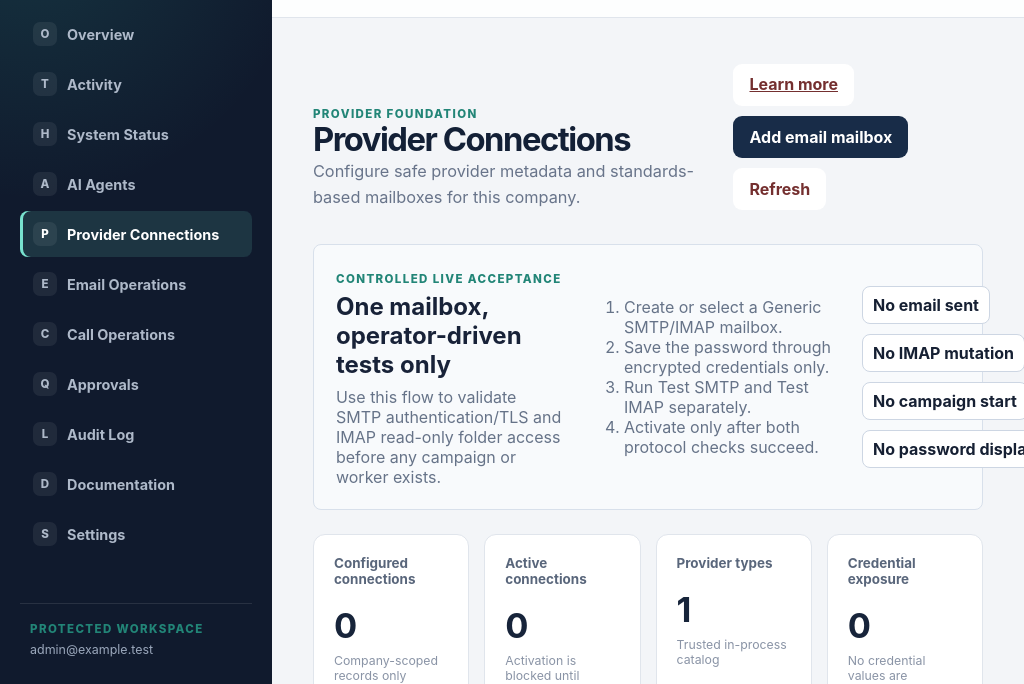
Test: validates mailbox form ports before saving
Click the button "Add email mailbox".
click(821, 137)  # box [734,116,908,158]
(page scrolled)
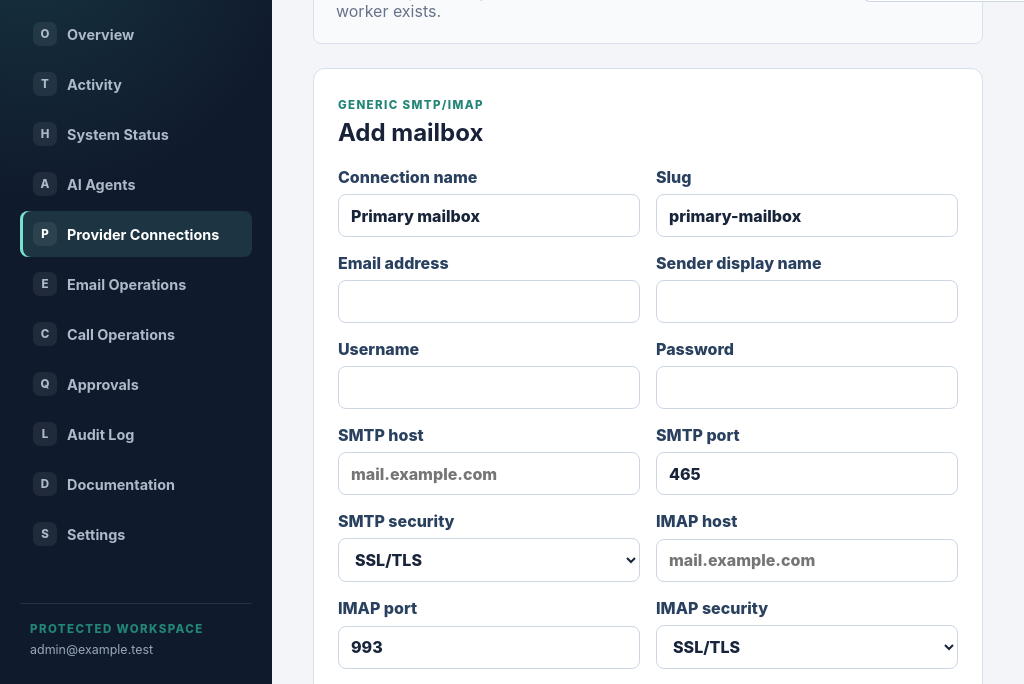
Type "mailbox@example.test" into the field labelled "Email address".
click(489, 302); type("mailbox@example.test")  # box [338,280,640,323]
Type "mailbox@example.test" into the field labelled "Username".
click(489, 388); type("mailbox@example.test")  # box [338,366,640,409]
Type "not-rendered-mailbox-password" into the password field labelled "Password".
click(807, 388); type("not-rendered-mailbox-password")  # box [656,366,958,409]
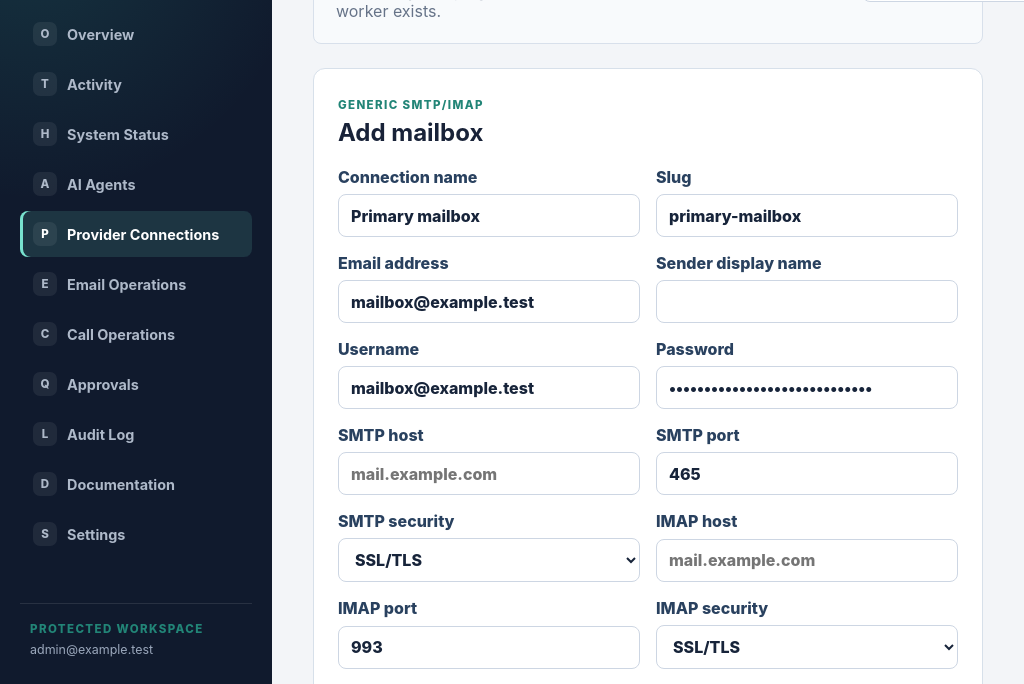
Type "mail.example.test" into the field labelled "SMTP host".
click(489, 474); type("mail.example.test")  # box [338,452,640,495]
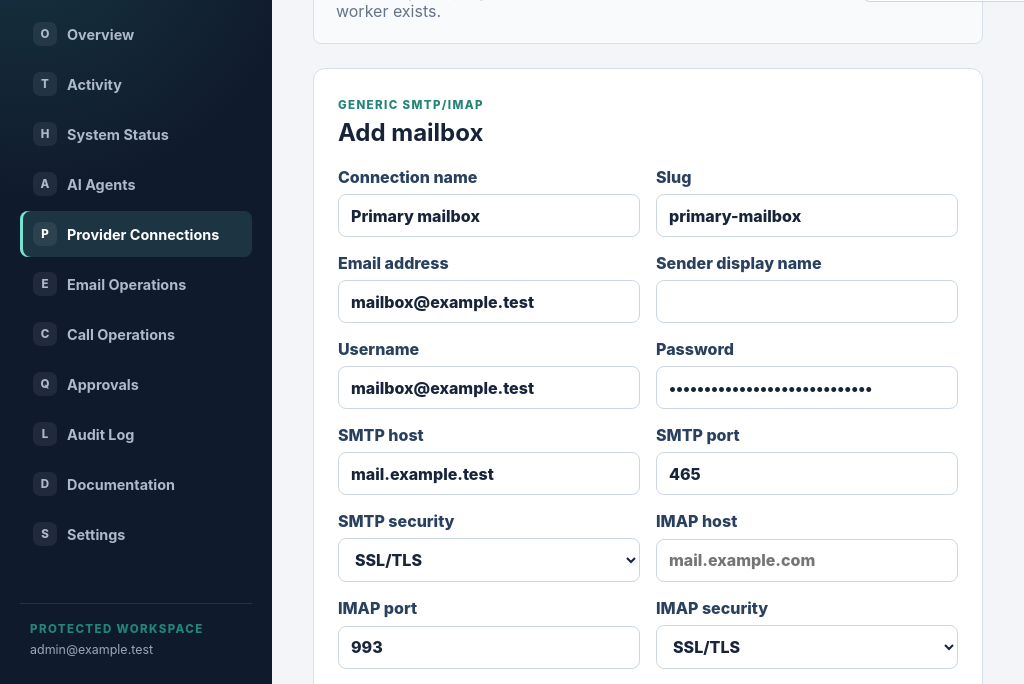
Replace the text in the number field labelled "SMTP port" with "70000" at x=807, y=474, box [656,452,958,495]
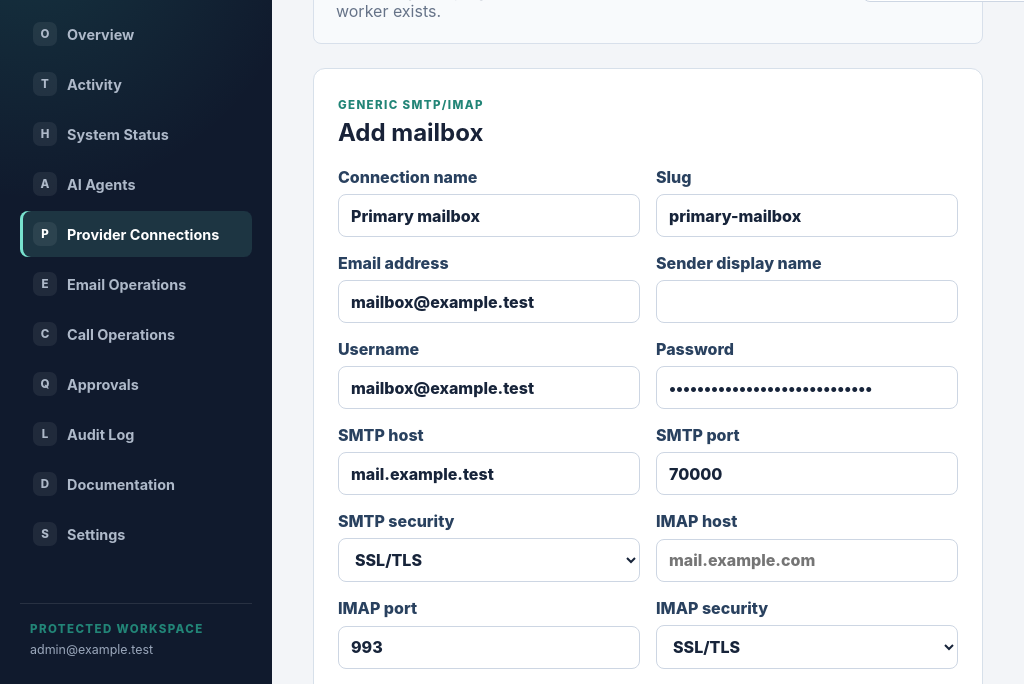
Type "mail.example.test" into the field labelled "IMAP host".
click(807, 560); type("mail.example.test")  # box [656,538,958,582]
(page scrolled)
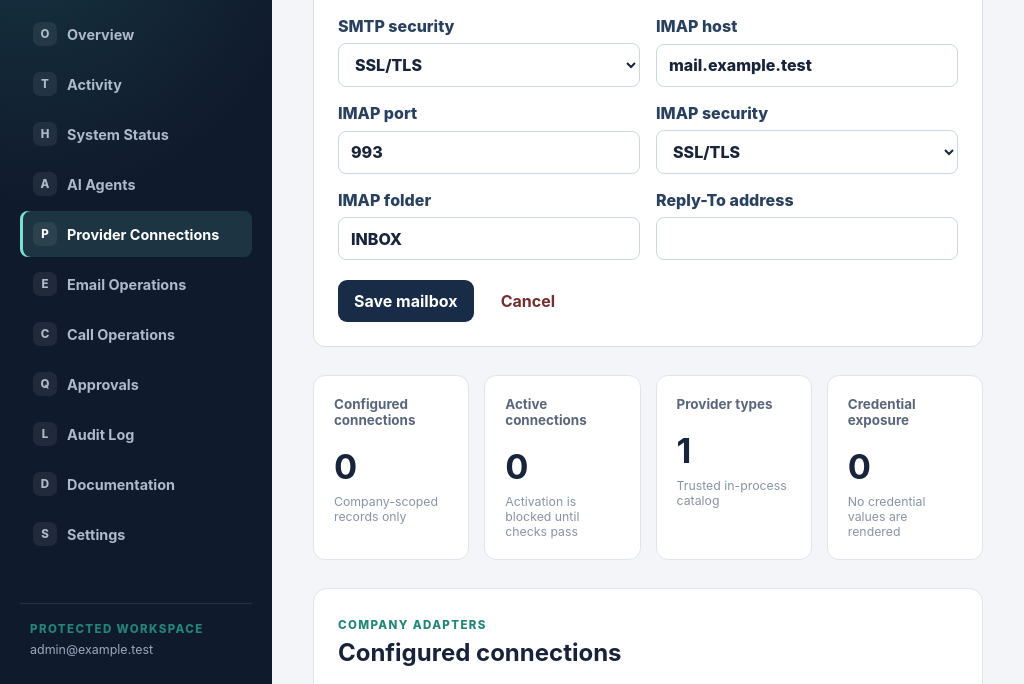
Click the button "Save mailbox".
click(406, 301)  # box [338,280,474,322]
(page scrolled)
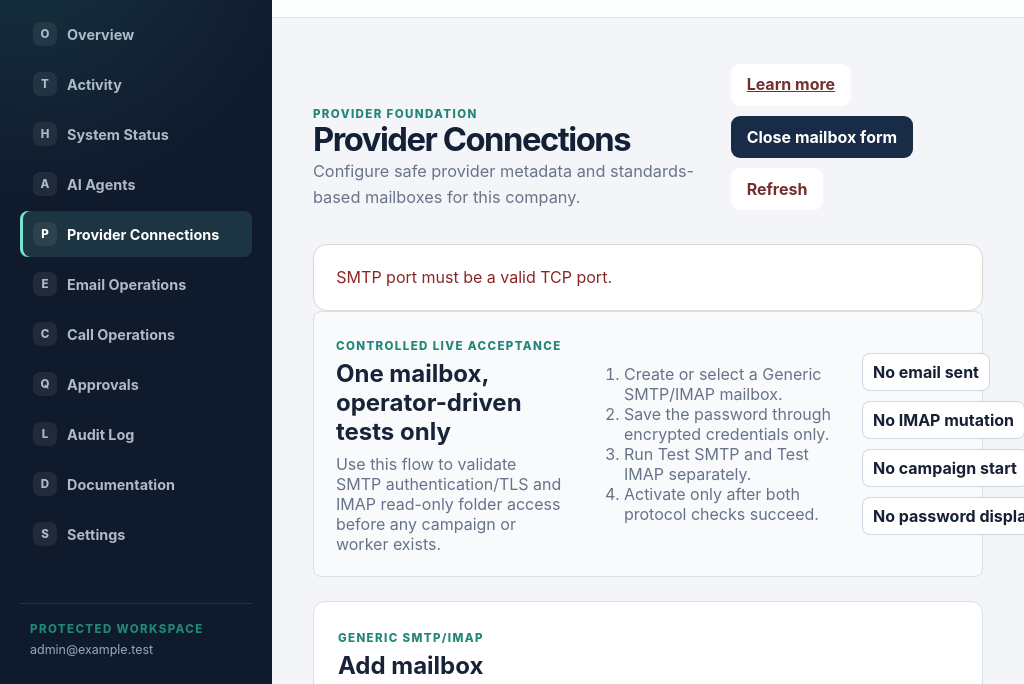
Result: the text "SMTP port must be a valid TCP port." is shown at [313,244,983,311]
